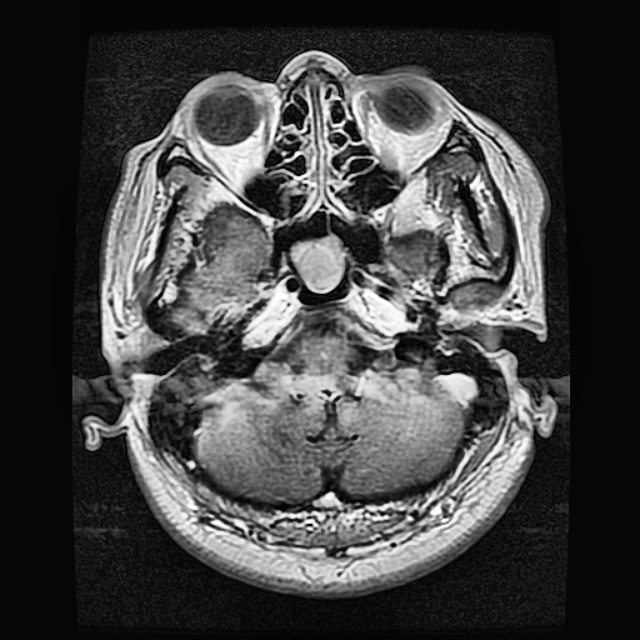Pituitary: (292, 234, 348, 294)
